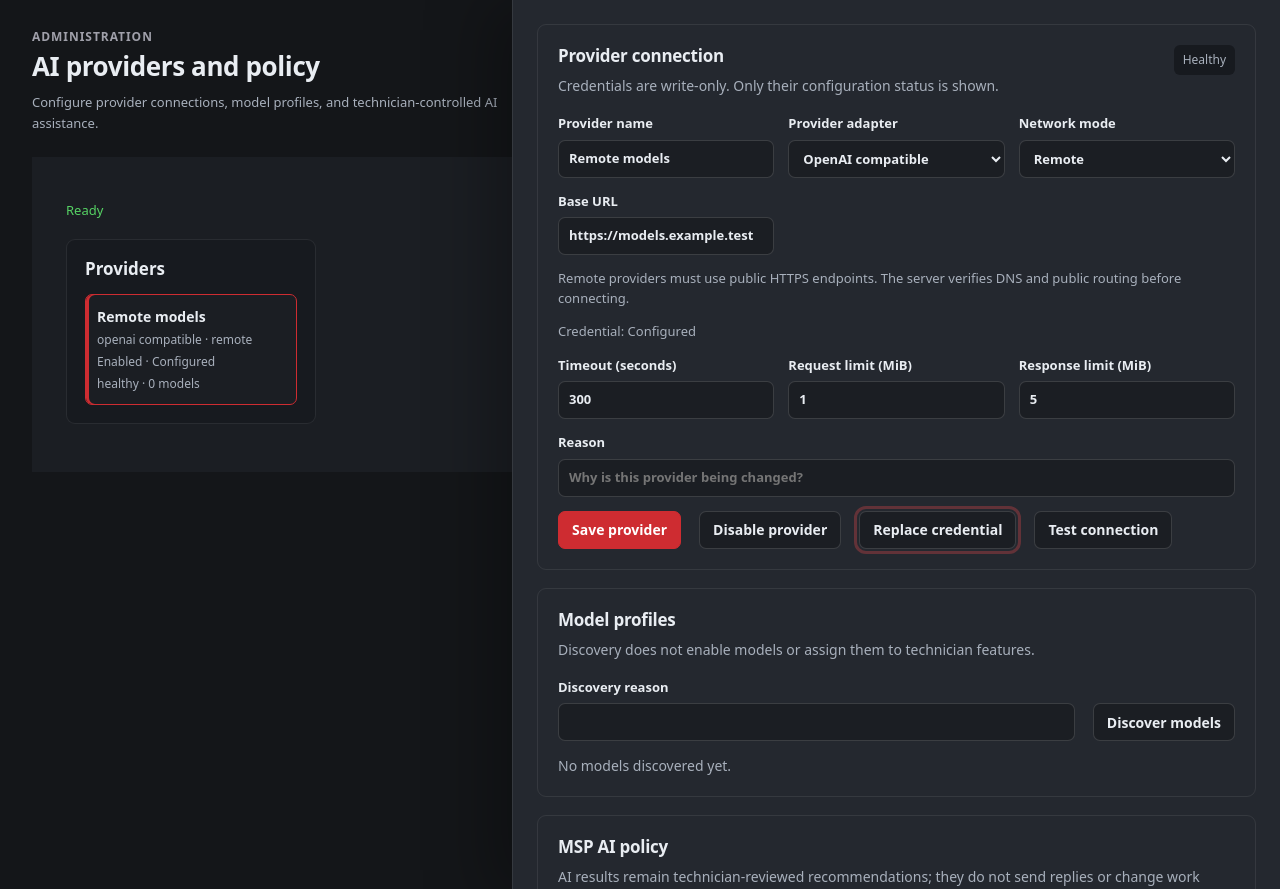
Scenario: AISettingsPage › traps and restores keyboard focus for credential replacement
The image size is (1280, 889).
Step 1. Click the button "Replace credential" → (938, 530), box top-left (859, 511), bottom-right (1016, 549)
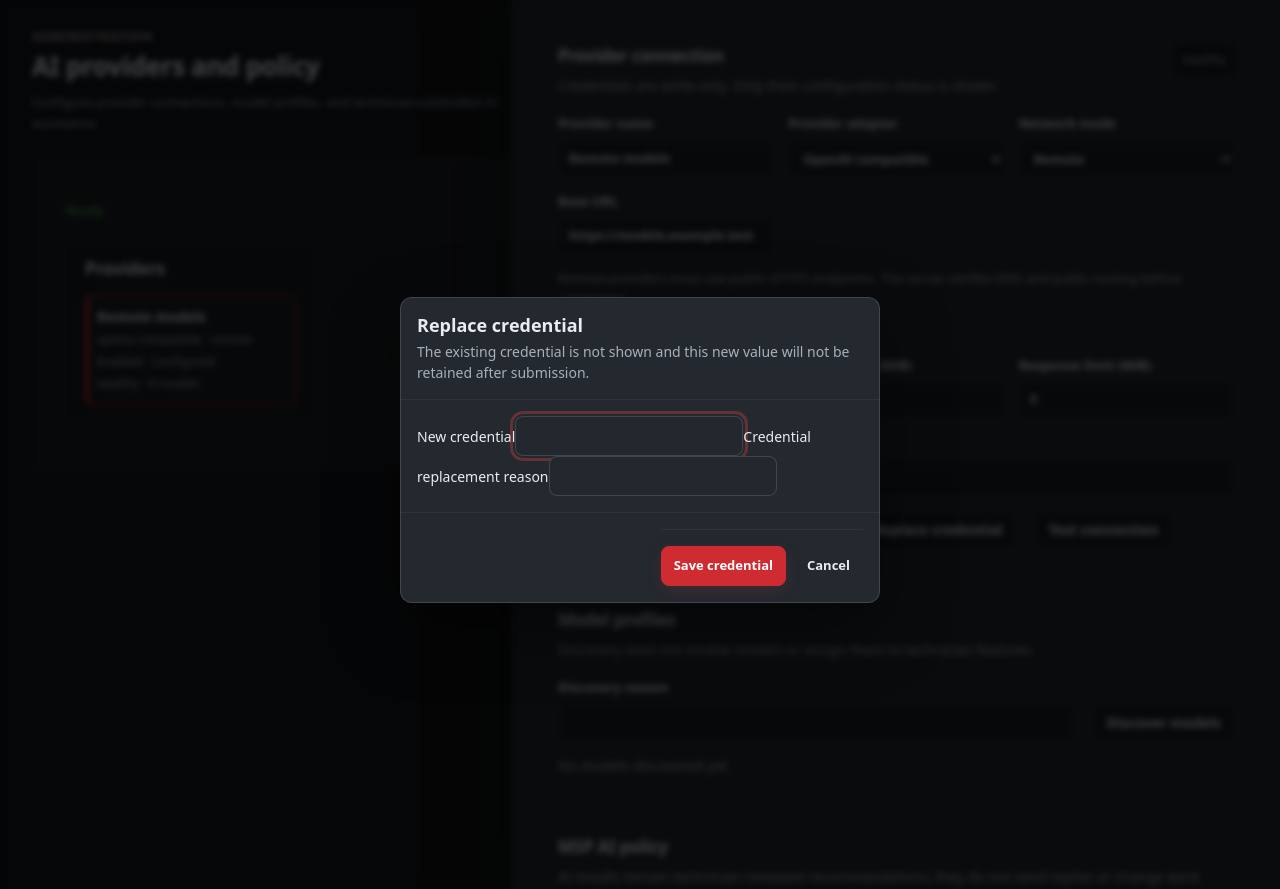
Step 2. Press Tab in the password field labelled "New credential", box top-left (515, 416), bottom-right (743, 456)
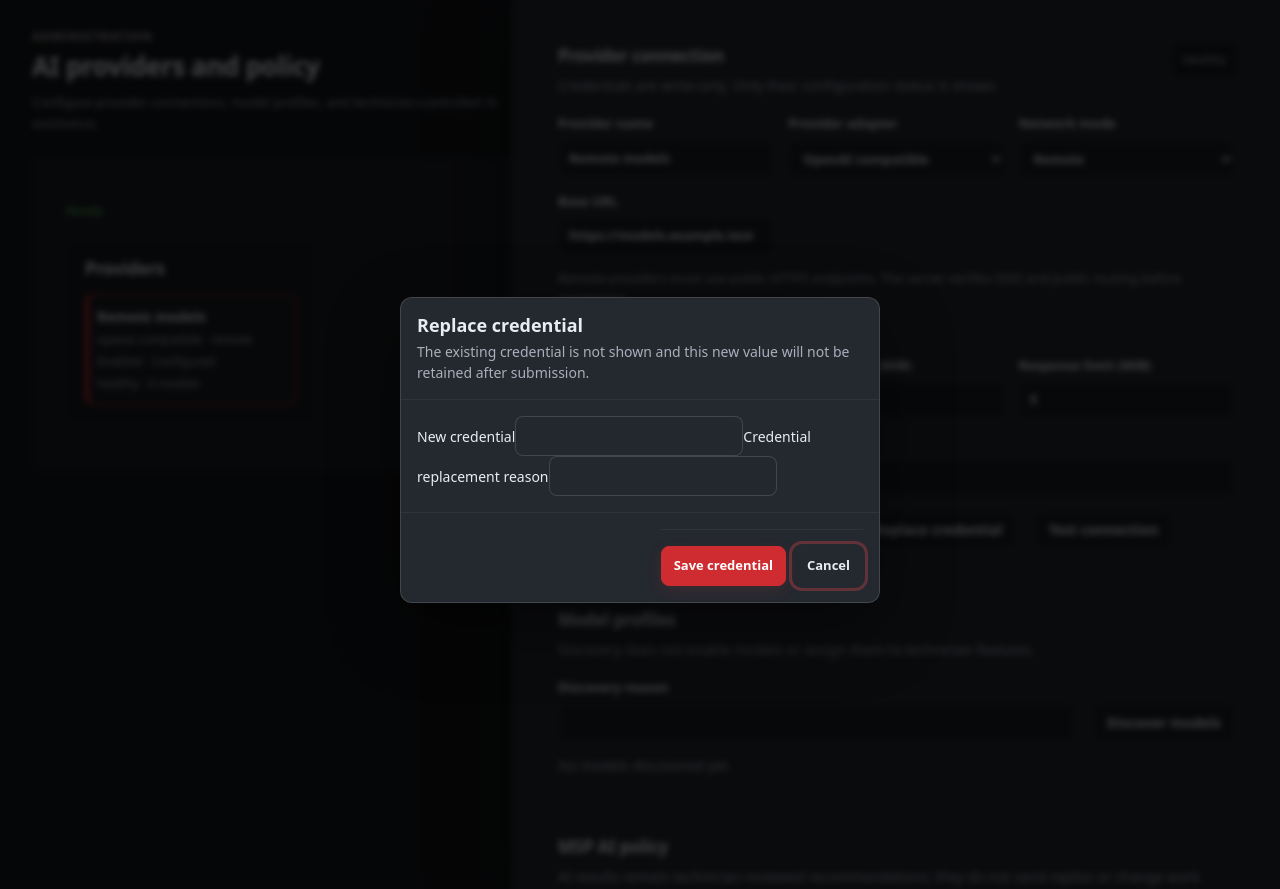
Step 3. Press Tab in the button "Cancel", box top-left (794, 546), bottom-right (863, 586)
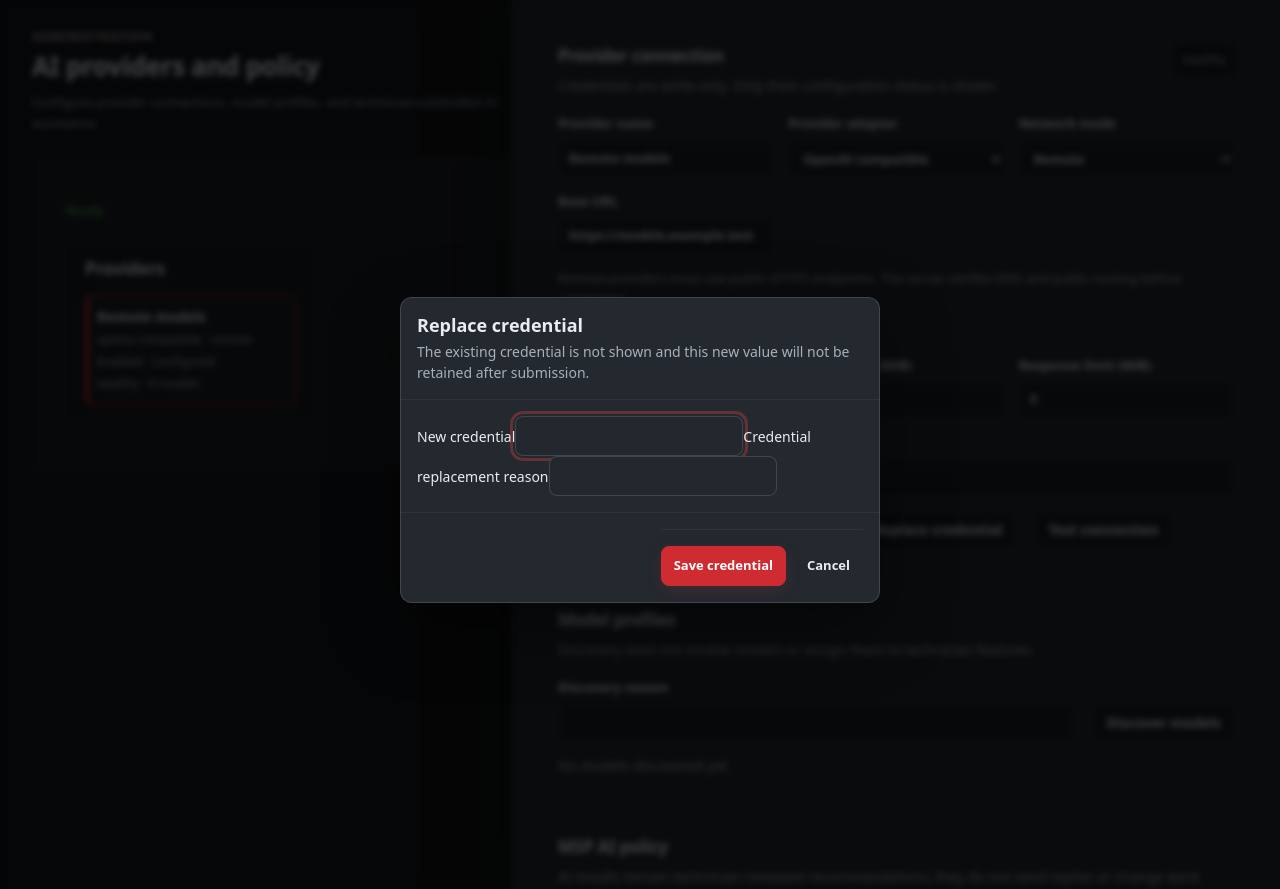
Step 4. Press Escape in the password field labelled "New credential", box top-left (515, 416), bottom-right (743, 456)
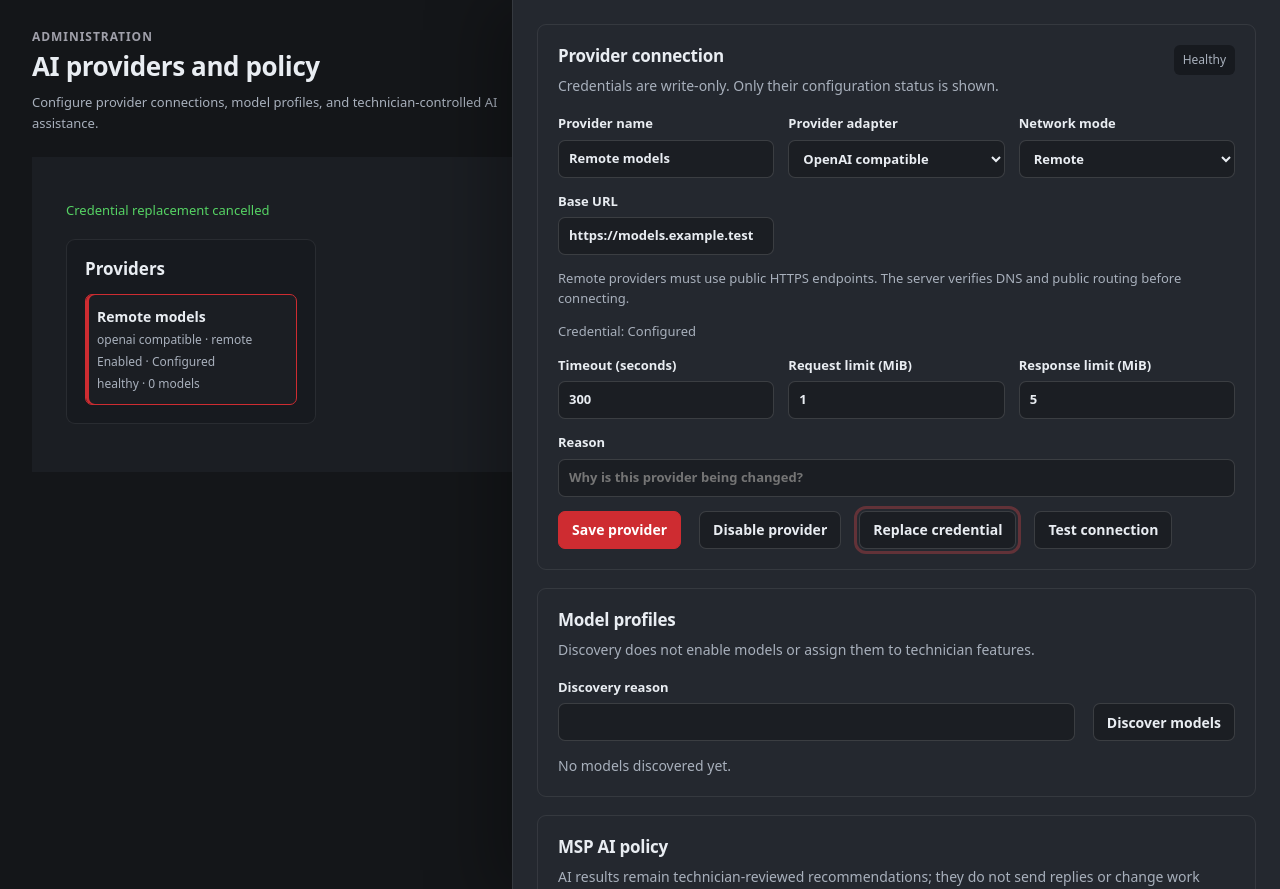
Expected: the dialog is gone
